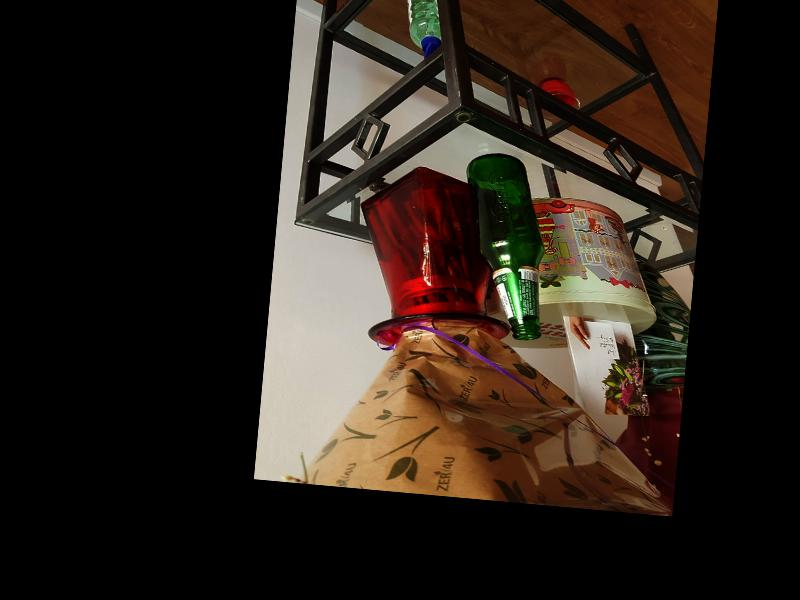Beer: (453, 150, 554, 342)
